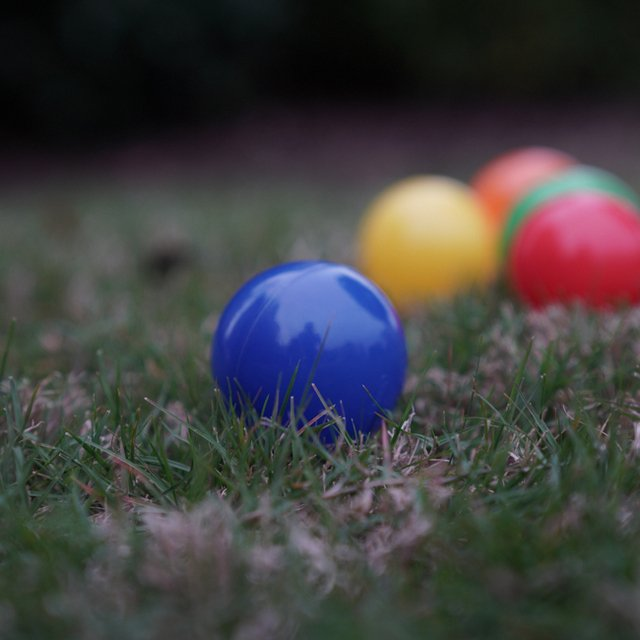ball: (355, 173, 500, 313)
